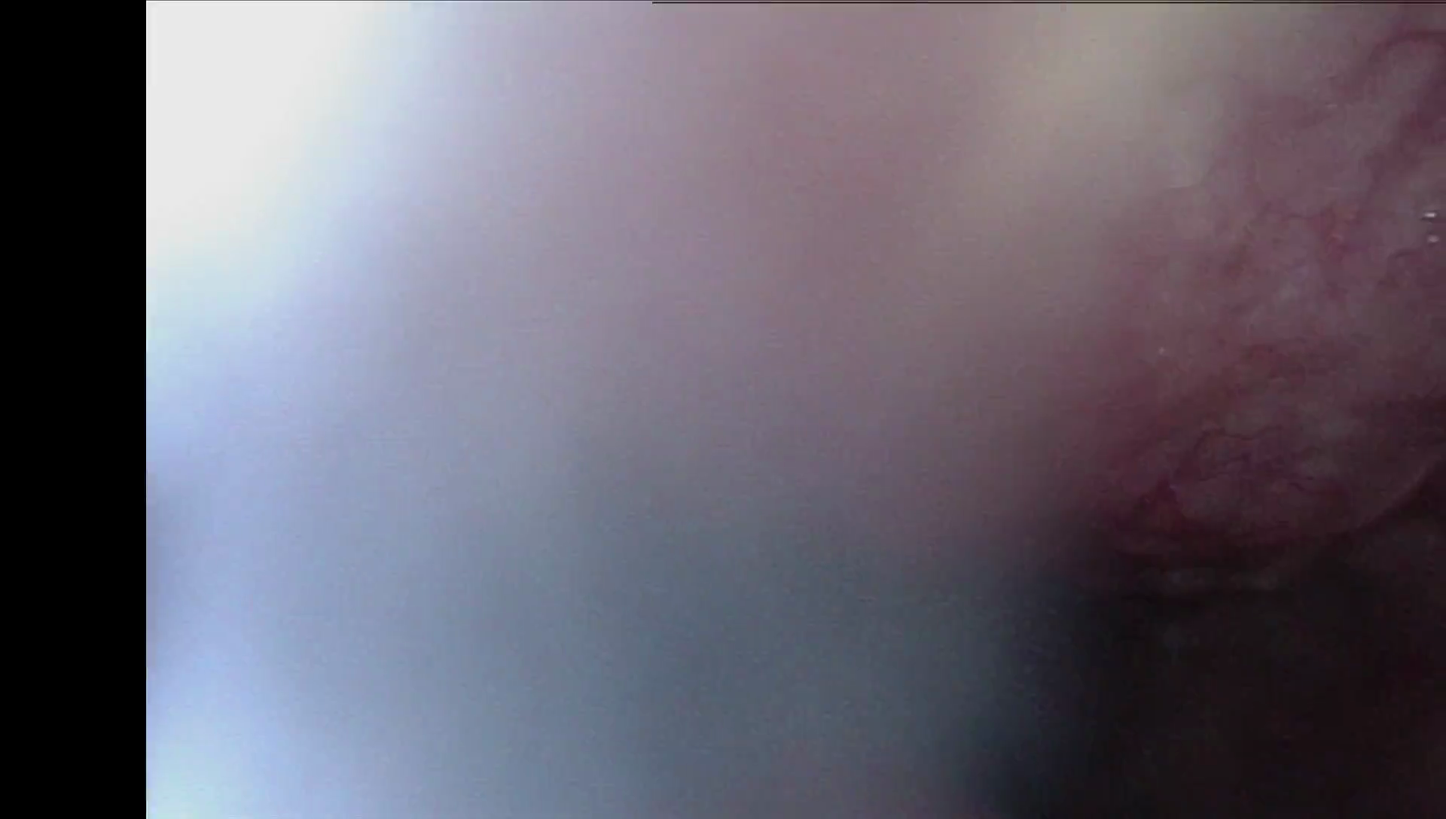close_wall: (164, 0, 1287, 382)
next: (959, 477, 1446, 819)
